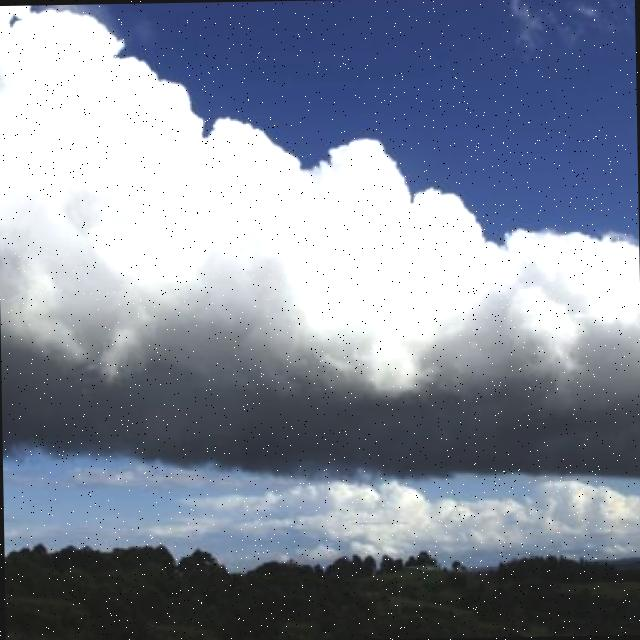Cu: (1, 76, 640, 417)
